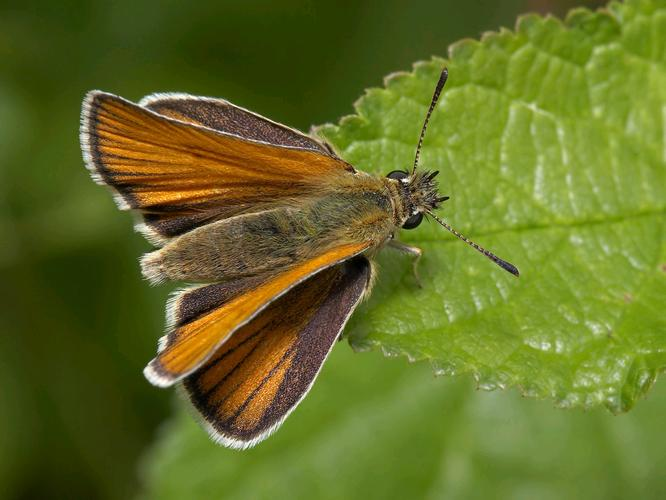Hesperiidae: (76, 59, 527, 451)
